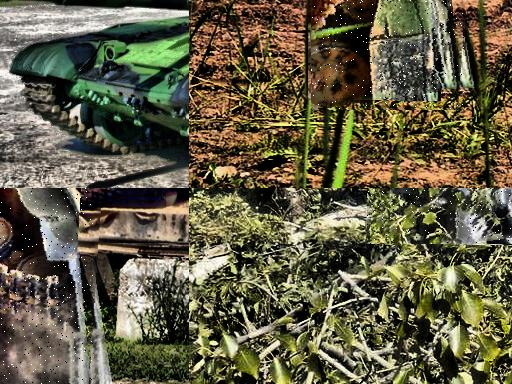tanks: (11, 19, 190, 155), (1, 189, 94, 384), (313, 1, 465, 110)
